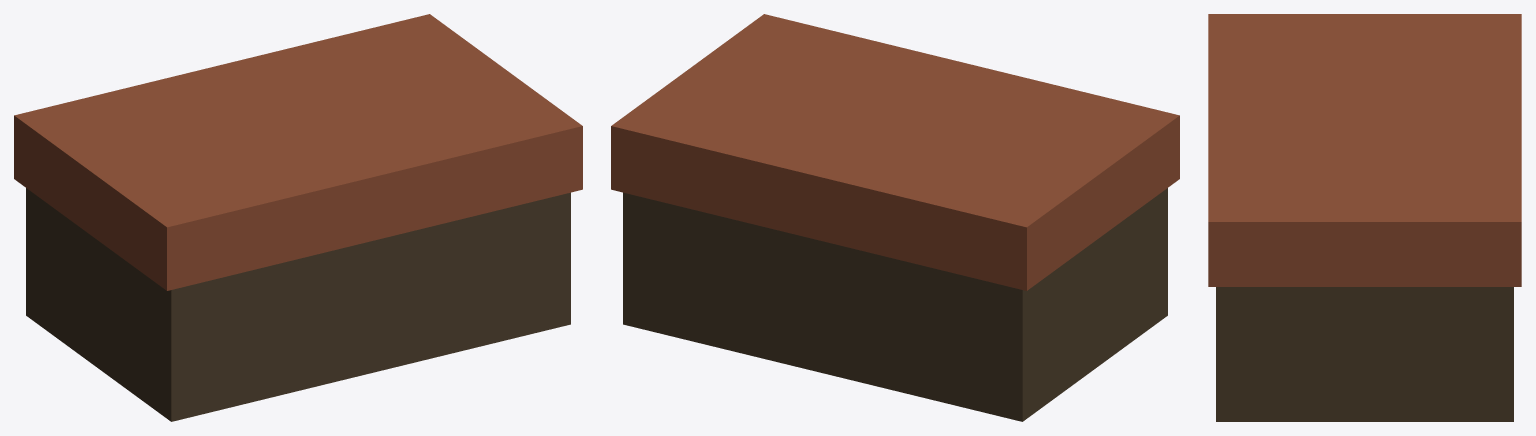
File: SM_Prop_ShoeBox_03.fbx
The picture shows the model from 3 angles, left to right: view 1: azimuth 30°, elevation 25°; view 2: azimuth 150°, elevation 25°; view 3: azimuth 270°, elevation 25°; orthographic projection. The views are drawn at different scales.
Visible parts, largest first — view 1: SM_Prop_ShoeBox_03; view 2: SM_Prop_ShoeBox_03; view 3: SM_Prop_ShoeBox_03.
Part boxes in pixels (x1,y1,x2,y2): SM_Prop_ShoeBox_03: (14, 14, 582, 421); SM_Prop_ShoeBox_03: (611, 14, 1179, 421); SM_Prop_ShoeBox_03: (1208, 14, 1521, 421).
Size of the model in its own units: 28.93 by 13.25 by 18.45.
